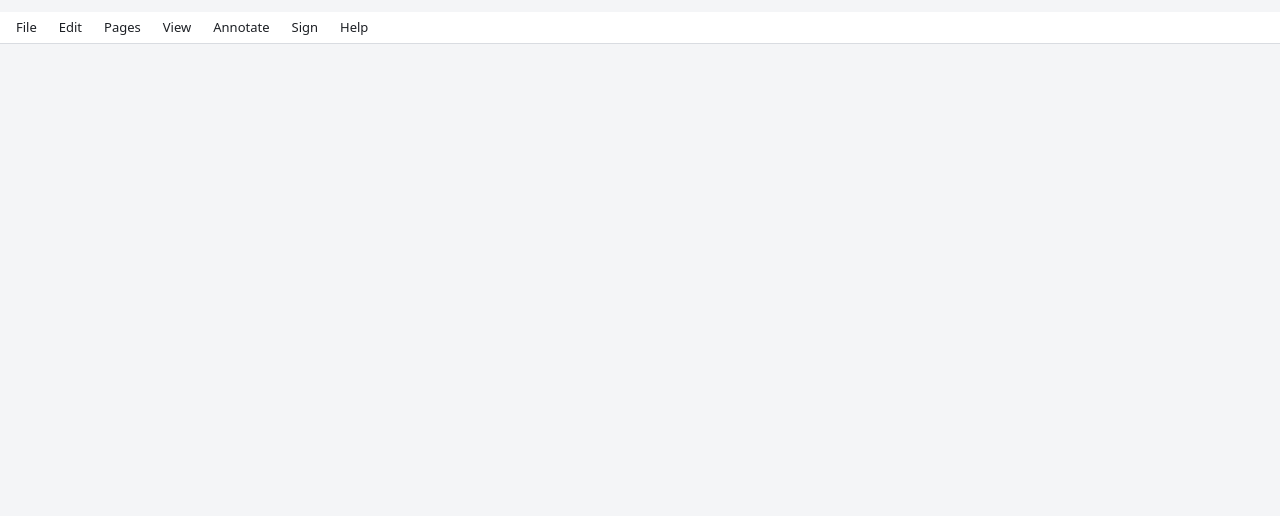
MenuBar › reflects live viewer state on the View menu's checkable rows
The image size is (1280, 516).
Click the menu item "View" at (177, 28), box [153,14,201,40]
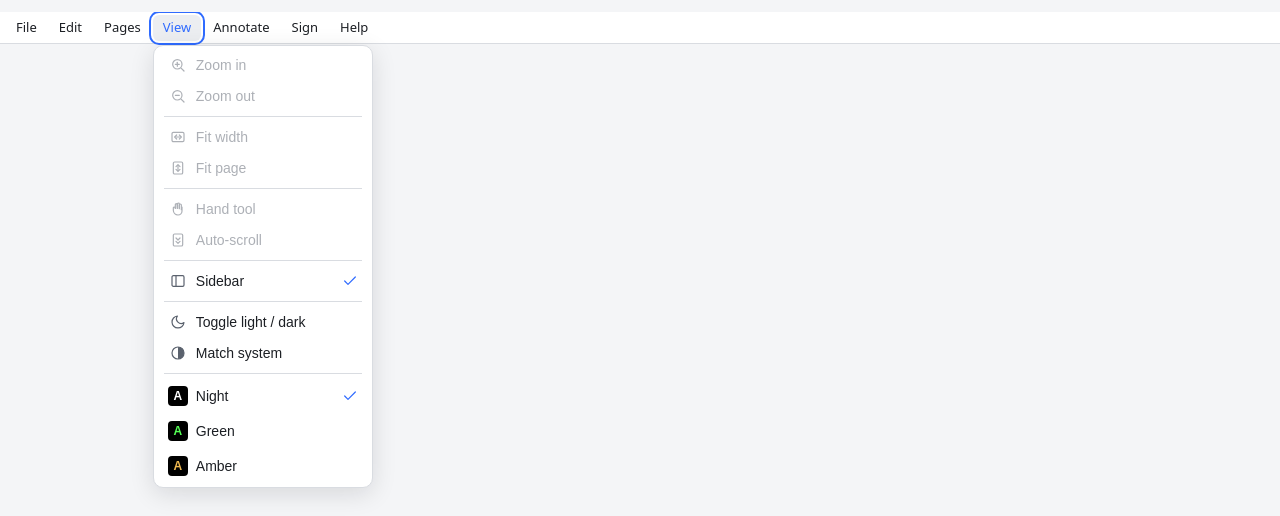
Expected: the menu item "Sidebar" is enabled, [158,266,368,296]
Expected: the menu item "Hand tool" is disabled, [158,194,368,224]
